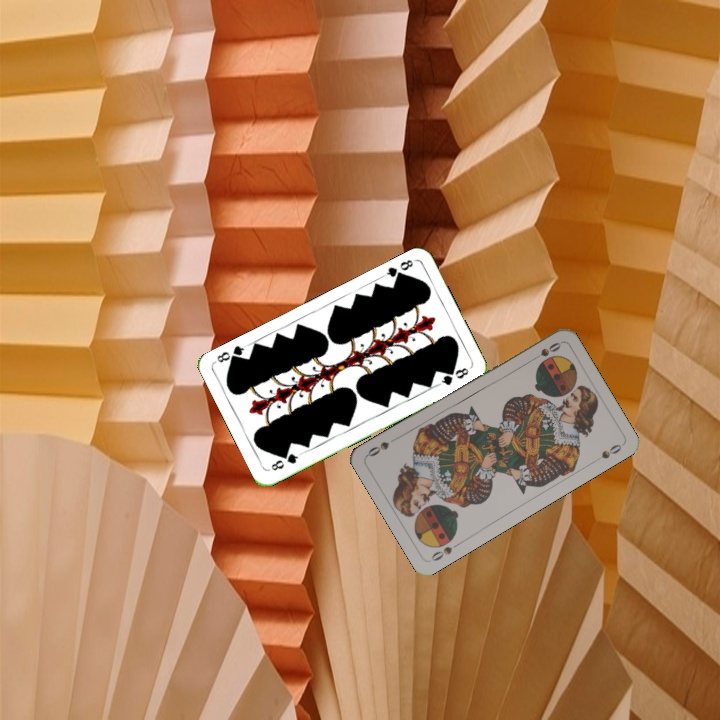G8: (379, 255, 417, 283), (267, 449, 303, 473)
SO: (526, 338, 564, 364), (427, 538, 463, 564)
